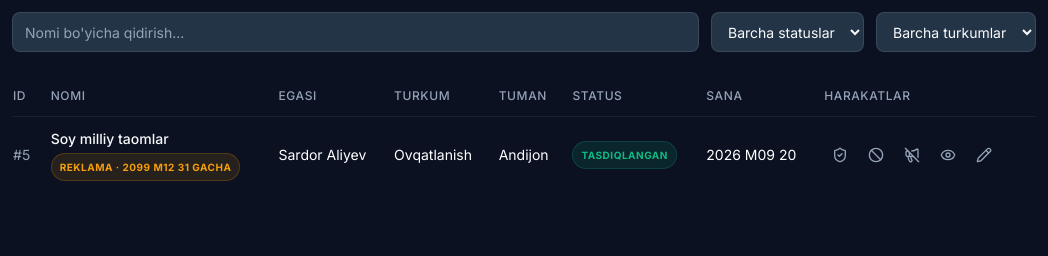
AdminBusinessesView — business operations › ends an active promotion after confirmation
This screenshot has width=1048, height=256.
Expected: the text "Soy milliy taomlar" is shown, [51,130,169,147]
Click the button named "Reklamani to'xtatish": (912, 155) [896,139,928,171]
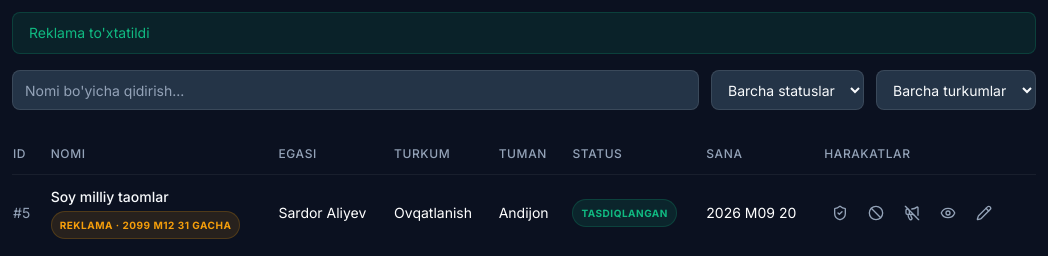
Expected: the text "Reklama to'xtatildi" is shown, [12,12,1036,54]
